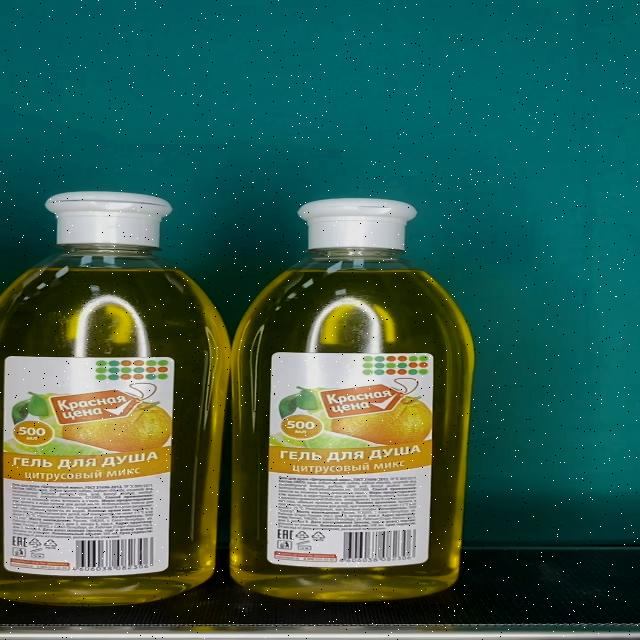Bottle: (232, 196, 472, 600), (0, 191, 231, 607)
Cap: (44, 191, 172, 247), (296, 197, 416, 249)
